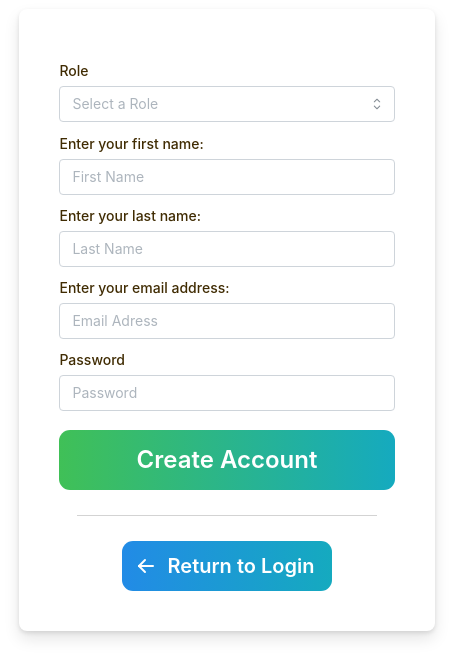
Scenario: Create new account › options student and instructor in role dropdown
Click the text "Role" at (74, 70), box [59,60,88,81]
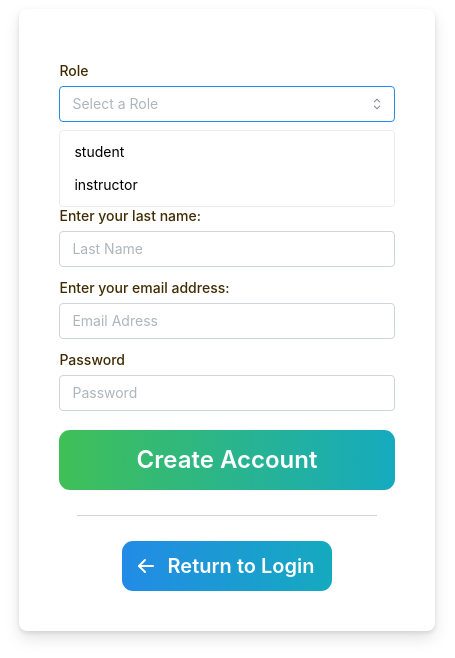
Expected: the text "student" is shown, [74,141,124,162]
Expected: the text "instructor" is shown, [74,174,138,196]
